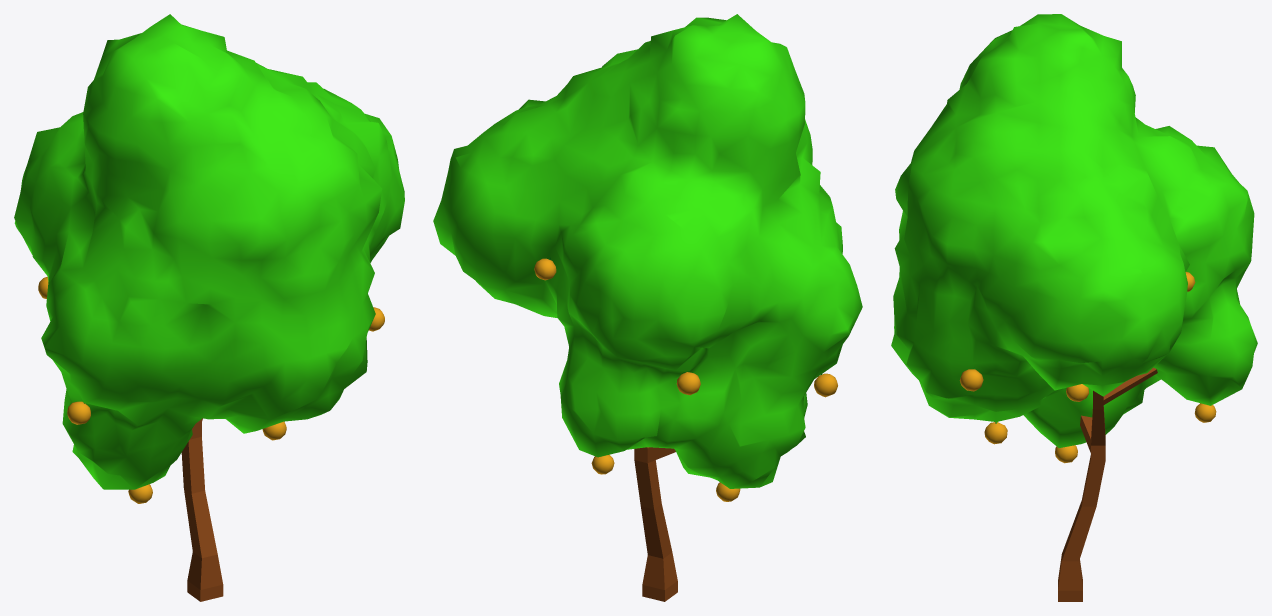
The model's file is SM_OrangeTree_001_LOD1.fbx.
The picture shows the model from 3 angles, left to right: view 1: azimuth 30°, elevation 25°; view 2: azimuth 150°, elevation 25°; view 3: azimuth 270°, elevation 25°; orthographic projection. The views are drawn at different scales.
Parts seen in each view (by area): view 1: OrangeTree_01; view 2: OrangeTree_01; view 3: OrangeTree_01.
Part boxes in pixels (x1,y1,x2,y2): OrangeTree_01: (14, 14, 404, 601); OrangeTree_01: (433, 14, 862, 601); OrangeTree_01: (891, 14, 1257, 601).
Size of the model in its own units: 217 by 322 by 195.
